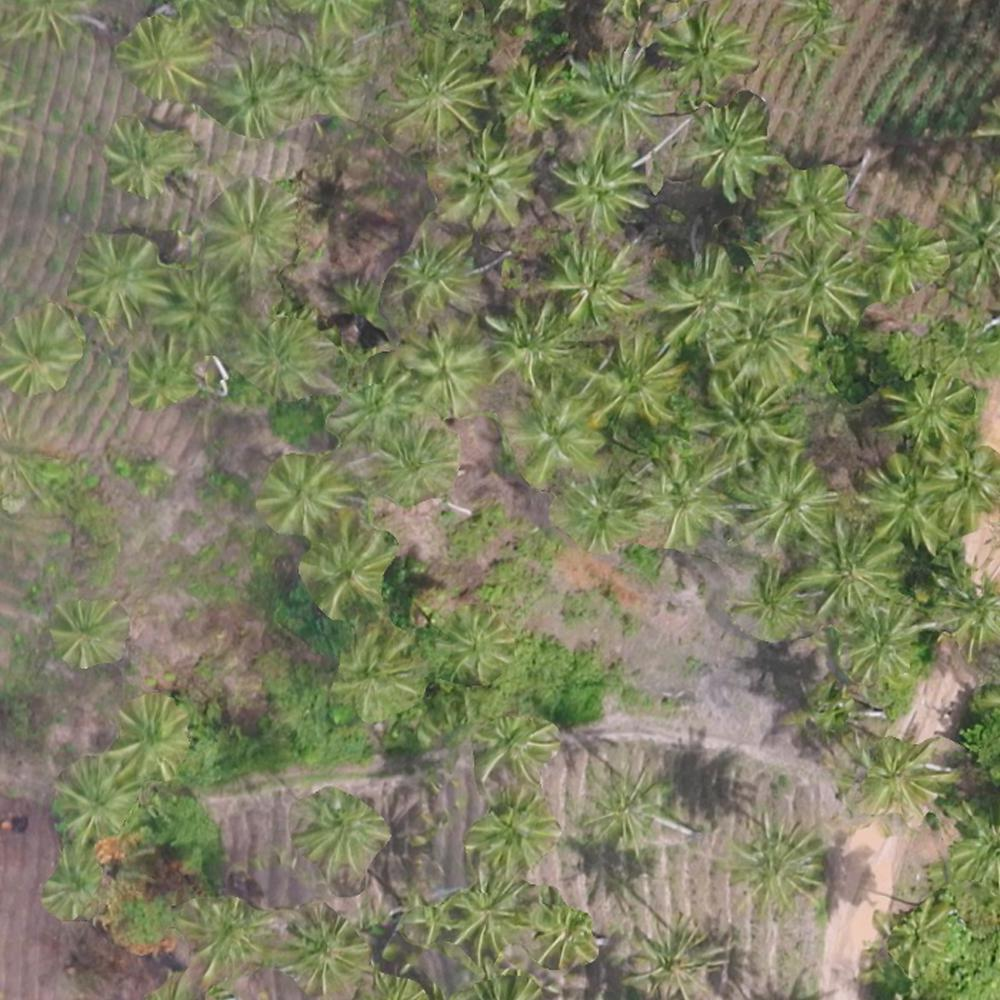Palm: (800, 516, 902, 608), (735, 459, 835, 552), (730, 819, 824, 916), (692, 375, 798, 461), (634, 454, 727, 548), (195, 183, 290, 274), (570, 50, 666, 140), (864, 454, 955, 548), (650, 256, 752, 339), (583, 335, 680, 421), (653, 11, 747, 99), (847, 728, 940, 816), (509, 383, 600, 471), (393, 47, 485, 133), (234, 308, 325, 394), (771, 242, 862, 327), (440, 136, 530, 221), (77, 236, 165, 322), (550, 236, 637, 322), (625, 918, 721, 995), (397, 328, 483, 413), (881, 365, 971, 446), (553, 146, 640, 229), (1, 308, 82, 397), (337, 631, 427, 710), (215, 49, 297, 133), (120, 22, 203, 104), (688, 111, 769, 195), (300, 535, 388, 612), (483, 306, 572, 382), (287, 31, 362, 121), (919, 563, 998, 648), (766, 172, 853, 248), (863, 221, 944, 302), (448, 875, 527, 958), (334, 361, 416, 440), (275, 911, 359, 988), (53, 762, 138, 838), (111, 697, 192, 775), (392, 234, 474, 311), (582, 774, 662, 852), (835, 609, 917, 684), (260, 460, 344, 532), (568, 474, 646, 551), (159, 265, 234, 345), (105, 121, 181, 199), (471, 797, 551, 871), (932, 443, 1000, 526), (378, 425, 457, 496), (738, 563, 810, 638), (434, 609, 511, 677), (300, 791, 375, 860), (185, 896, 260, 963), (124, 345, 196, 414), (52, 596, 117, 663), (498, 62, 566, 125)
